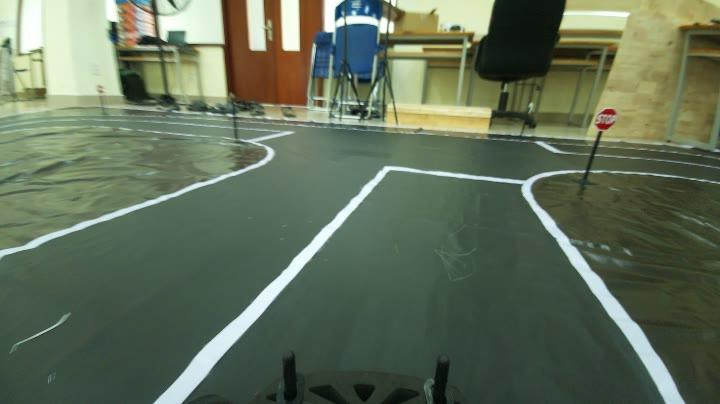stop: (590, 102, 620, 133)
